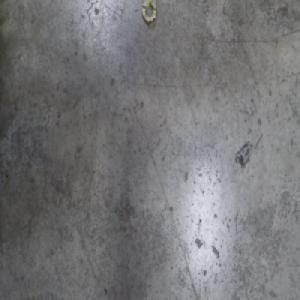Nut: (140, 0, 157, 27)
